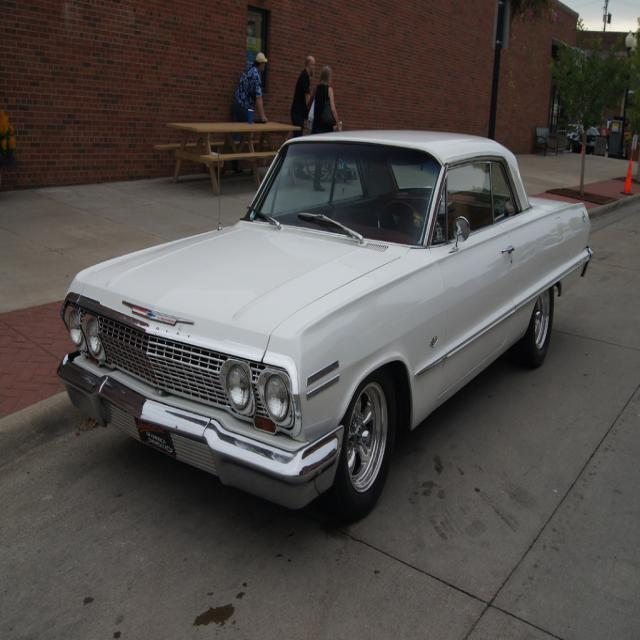car: (56, 128, 593, 515)
